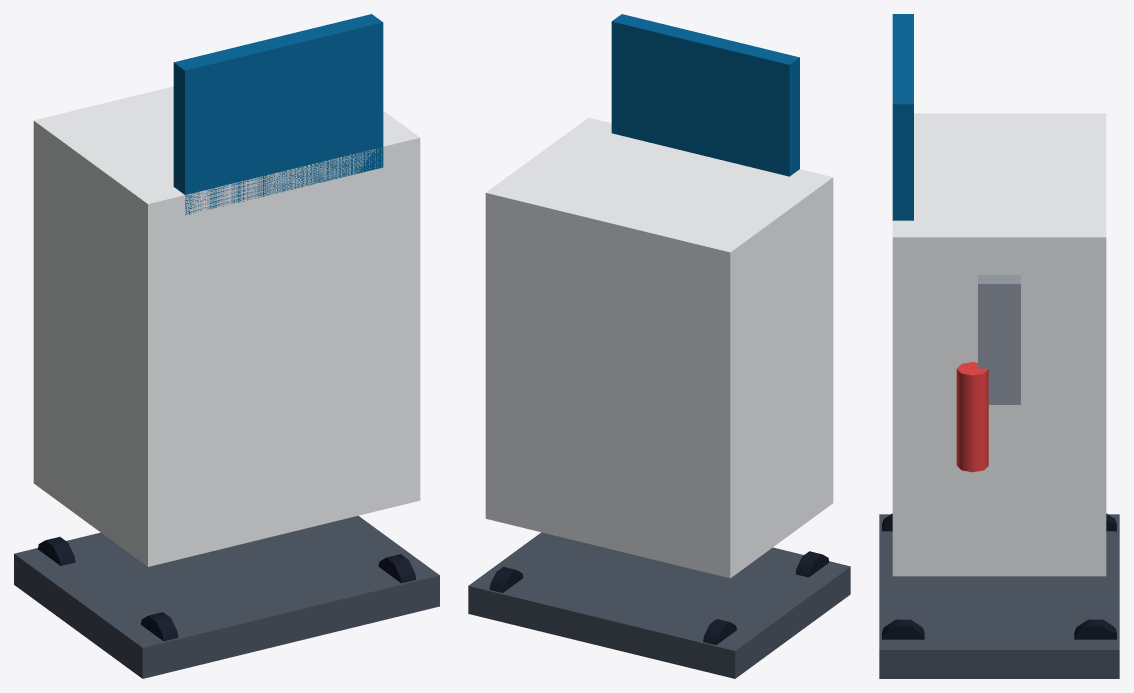
File: parametric-source.glb
3 views of the same model, side by side, from view 1: azimuth 30°, elevation 25°; view 2: azimuth 150°, elevation 25°; view 3: azimuth 270°, elevation 25° (orthographic). The views are drawn at different scales.
Parts seen in each view (by area): view 1: openclinxr.equipment.12_lead_ecg_machine_equipment.cart_body, openclinxr.equipment.12_lead_ecg_machine_equipment.cart_base, openclinxr.equipment.12_lead_ecg_machine_equipment.display, openclinxr.equipment.12_lead_ecg_machine_equipment.caster_2, openclinxr.equipment.12_lead_ecg_machine_equipment.caster_0, openclinxr.equipment.12_lead_ecg_machine_equipment.caster_3; view 2: openclinxr.equipment.12_lead_ecg_machine_equipment.cart_body, openclinxr.equipment.12_lead_ecg_machine_equipment.cart_base, openclinxr.equipment.12_lead_ecg_machine_equipment.display, openclinxr.equipment.12_lead_ecg_machine_equipment.caster_2, openclinxr.equipment.12_lead_ecg_machine_equipment.caster_0, openclinxr.equipment.12_lead_ecg_machine_equipment.caster_1; view 3: openclinxr.equipment.12_lead_ecg_machine_equipment.cart_body, openclinxr.equipment.12_lead_ecg_machine_equipment.cart_base, openclinxr.equipment.12_lead_ecg_machine_equipment.lead_hook, openclinxr.equipment.12_lead_ecg_machine_equipment.display, openclinxr.equipment.12_lead_ecg_machine_equipment.lead_bund, openclinxr.equipment.12_lead_ecg_machine_equipment.caster_1, openclinxr.equipment.12_lead_ecg_machine_equipment.caster_3.
Part boxes in pixels (box(x1,y1,x2,y2)): openclinxr.equipment.12_lead_ecg_machine_equipment.cart_body: box(33, 86, 420, 566); openclinxr.equipment.12_lead_ecg_machine_equipment.cart_base: box(14, 515, 439, 678); openclinxr.equipment.12_lead_ecg_machine_equipment.display: box(173, 14, 383, 215); openclinxr.equipment.12_lead_ecg_machine_equipment.caster_2: box(140, 612, 178, 641); openclinxr.equipment.12_lead_ecg_machine_equipment.caster_0: box(38, 537, 75, 565); openclinxr.equipment.12_lead_ecg_machine_equipment.caster_3: box(378, 554, 416, 583); openclinxr.equipment.12_lead_ecg_machine_equipment.cart_body: box(485, 117, 833, 578); openclinxr.equipment.12_lead_ecg_machine_equipment.cart_base: box(468, 532, 850, 678); openclinxr.equipment.12_lead_ecg_machine_equipment.display: box(611, 14, 799, 176); openclinxr.equipment.12_lead_ecg_machine_equipment.caster_2: box(795, 551, 829, 577); openclinxr.equipment.12_lead_ecg_machine_equipment.caster_0: box(703, 619, 736, 645); openclinxr.equipment.12_lead_ecg_machine_equipment.caster_1: box(489, 567, 523, 592); openclinxr.equipment.12_lead_ecg_machine_equipment.cart_body: box(892, 113, 1106, 576); openclinxr.equipment.12_lead_ecg_machine_equipment.cart_base: box(879, 514, 1119, 678); openclinxr.equipment.12_lead_ecg_machine_equipment.lead_hook: box(978, 275, 1020, 404); openclinxr.equipment.12_lead_ecg_machine_equipment.display: box(892, 14, 913, 220); openclinxr.equipment.12_lead_ecg_machine_equipment.lead_bund: box(956, 362, 988, 472); openclinxr.equipment.12_lead_ecg_machine_equipment.caster_1: box(1074, 619, 1116, 639); openclinxr.equipment.12_lead_ecg_machine_equipment.caster_3: box(882, 619, 924, 639).
Size of the model in its own units: 0.65 by 1.14 by 0.45.
